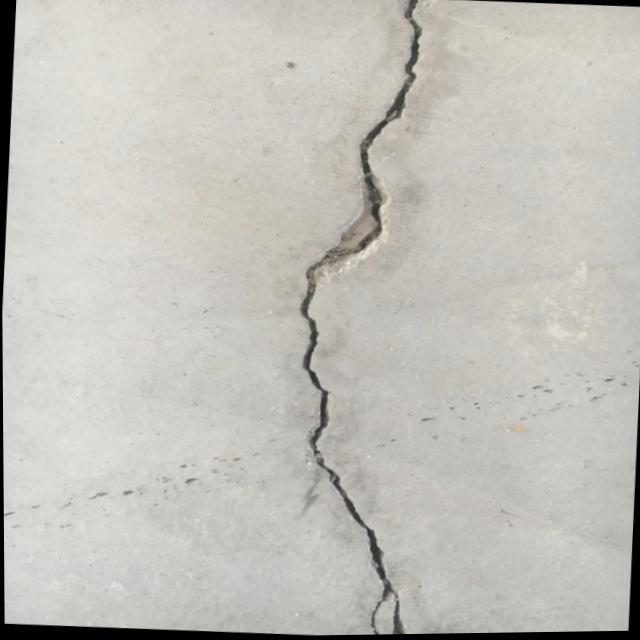Crack: (271, 269, 439, 637), (304, 0, 483, 288)
